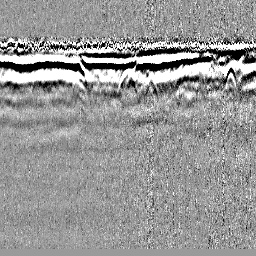cavity: (116, 66, 139, 96)
